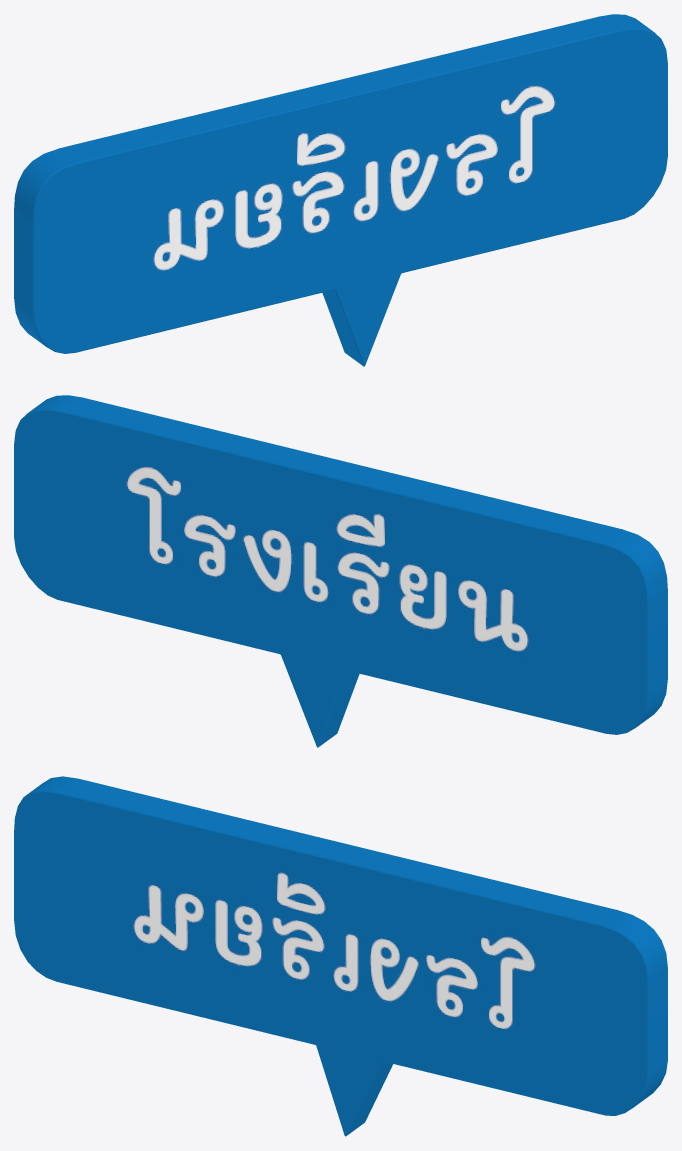
The model's file is button_School.glb.
3 renders of one model, top to bottom at view 1: azimuth 30°, elevation 25°; view 2: azimuth 150°, elevation 25°; view 3: azimuth 330°, elevation 25°, orthographic.
Parts seen in each view (by area): view 1: button:PIV; view 2: button:PIV; view 3: button:PIV.
Part boxes in pixels (x1,y1,x2,y2): button:PIV: [14, 14, 667, 366]; button:PIV: [14, 395, 667, 747]; button:PIV: [14, 776, 667, 1136].
Size of the model in its own units: 1.97 by 0.8125 by 0.107.
1 material, 1 textured.
